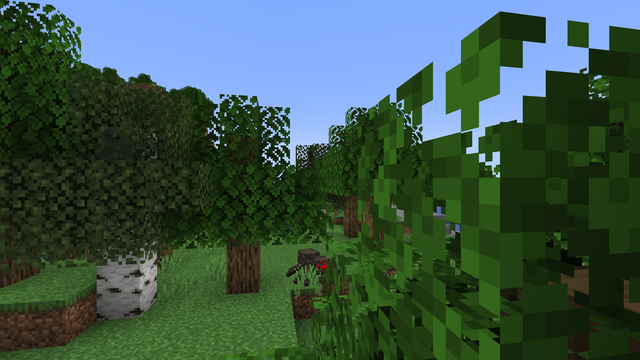araignees: (295, 247, 324, 285)
